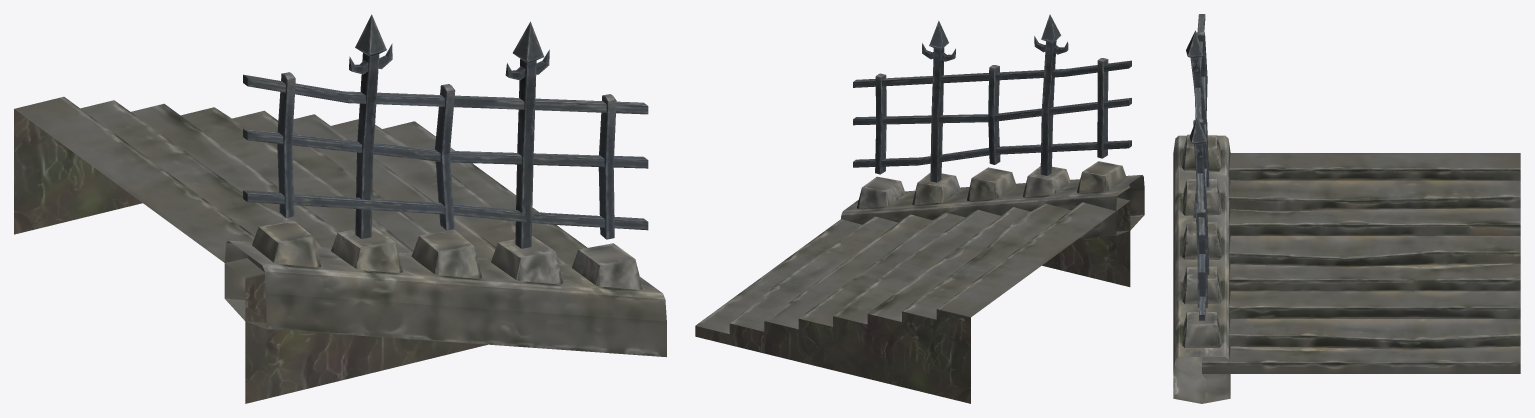
File: Stairs_low_handrail_left.obj
3 views of the same model, side by side, from view 1: azimuth 30°, elevation 25°; view 2: azimuth 150°, elevation 25°; view 3: azimuth 270°, elevation 25° (orthographic). The views are drawn at different scales.
Parts seen in each view (by area): view 1: Stairs_low_handrail_left; view 2: Stairs_low_handrail_left; view 3: Stairs_low_handrail_left.
Part boxes in pixels (x1,y1,x2,y2): Stairs_low_handrail_left: (14,14,666,403); Stairs_low_handrail_left: (695,14,1144,403); Stairs_low_handrail_left: (1173,14,1520,403).
Size of the model in its own units: 10 by 9.71 by 10.9.
